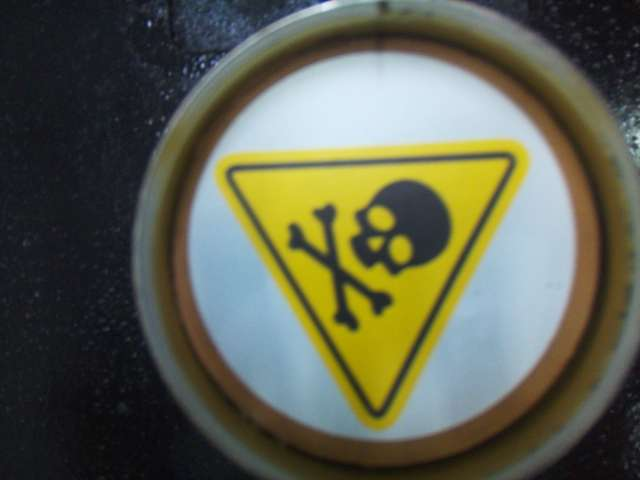toxic_fluid: (216, 123, 542, 445)
